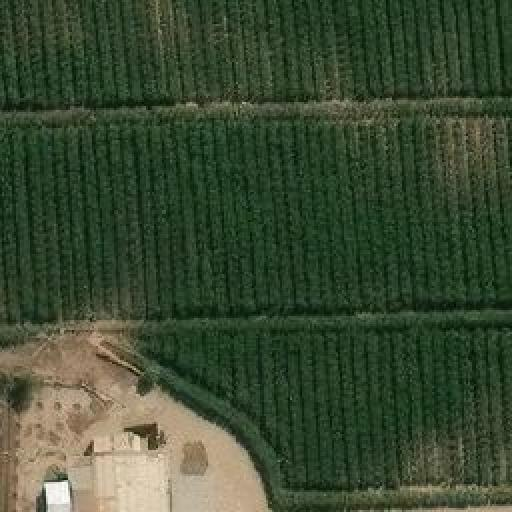manzanas: (40, 427, 175, 510)
